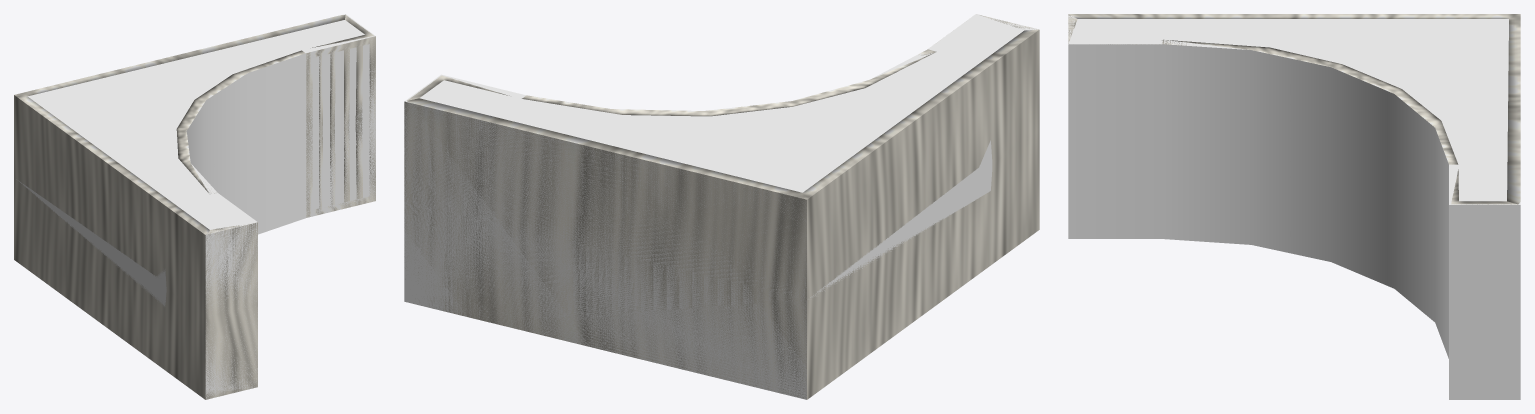
3 renders of one model, left to right at view 1: azimuth 30°, elevation 25°; view 2: azimuth 150°, elevation 25°; view 3: azimuth 270°, elevation 25°, orthographic. The views are drawn at different scales.
Parts seen in each view (by area): view 1: object8detail1, object8aura1; view 2: object8detail1, object8aura1; view 3: object8aura1, object8detail1.
Boxes of the visible parts, left/top/right/bottom form: object8detail1: left=14, top=14, right=375, bottom=399; object8aura1: left=16, top=14, right=375, bottom=398; object8detail1: left=404, top=15, right=1039, bottom=399; object8aura1: left=404, top=14, right=1037, bottom=399; object8aura1: left=1068, top=14, right=1520, bottom=399; object8detail1: left=1068, top=14, right=1520, bottom=204.
Bounding box in the file's own units: 29.63 × 14.08 × 29.63.
3 materials, 3 textured.
